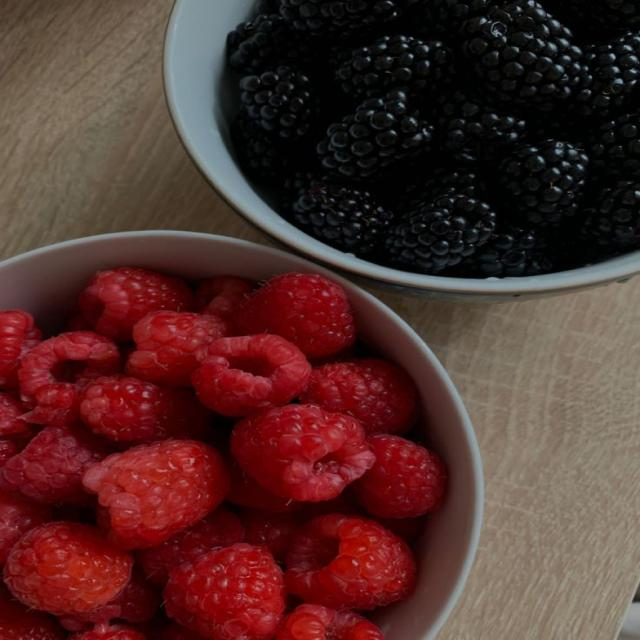raspberry: (83, 440, 229, 548), (231, 405, 375, 501), (460, 0, 582, 110), (286, 515, 415, 609), (4, 522, 132, 615), (164, 544, 285, 639), (317, 91, 433, 180), (234, 273, 355, 357), (192, 335, 311, 416), (383, 190, 496, 273), (19, 332, 120, 424), (300, 358, 417, 434), (0, 425, 112, 504), (80, 376, 208, 443), (79, 267, 193, 341), (137, 507, 244, 585), (290, 179, 393, 258), (497, 139, 589, 226), (334, 35, 453, 101), (354, 434, 446, 518), (126, 311, 229, 386), (437, 89, 524, 162), (59, 571, 159, 631), (240, 65, 317, 140), (577, 32, 639, 119), (226, 459, 299, 512), (0, 490, 51, 565), (277, 604, 383, 639), (0, 586, 66, 639), (241, 510, 305, 562), (0, 310, 41, 388), (195, 276, 253, 319), (303, 486, 365, 522), (0, 393, 31, 437), (377, 517, 426, 544), (71, 622, 146, 639), (309, 344, 357, 367), (159, 622, 202, 639), (0, 439, 19, 469), (67, 312, 93, 331)
